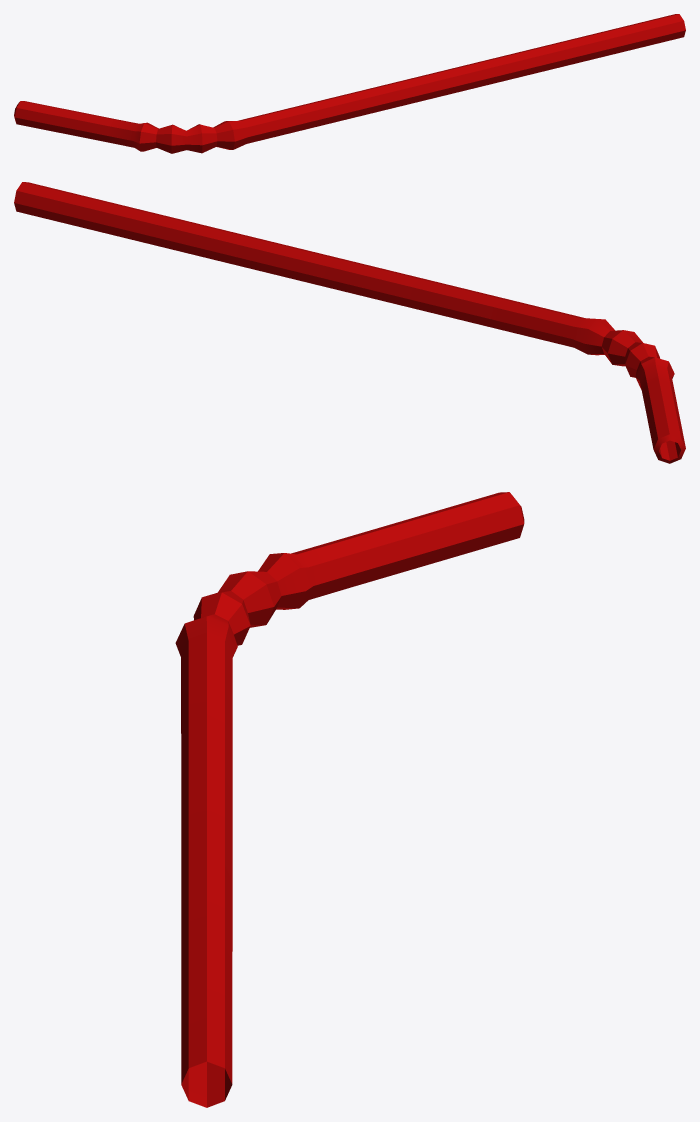
File: Straw_01.glb
3 renders of one model, top to bottom at view 1: azimuth 30°, elevation 25°; view 2: azimuth 150°, elevation 25°; view 3: azimuth 270°, elevation 25°, orthographic. The views are drawn at different scales.
Parts seen in each view (by area): view 1: Mesh_Straw_01; view 2: Mesh_Straw_01; view 3: Mesh_Straw_01.
Boxes of the visible parts, box(x1,y1,x2,y2) form: Mesh_Straw_01: box(14, 14, 685, 153); Mesh_Straw_01: box(14, 182, 685, 463); Mesh_Straw_01: box(175, 492, 524, 1107).
Size of the model in its own units: 0.2513 by 0.0116 by 0.0641.
1 material, 1 textured.
